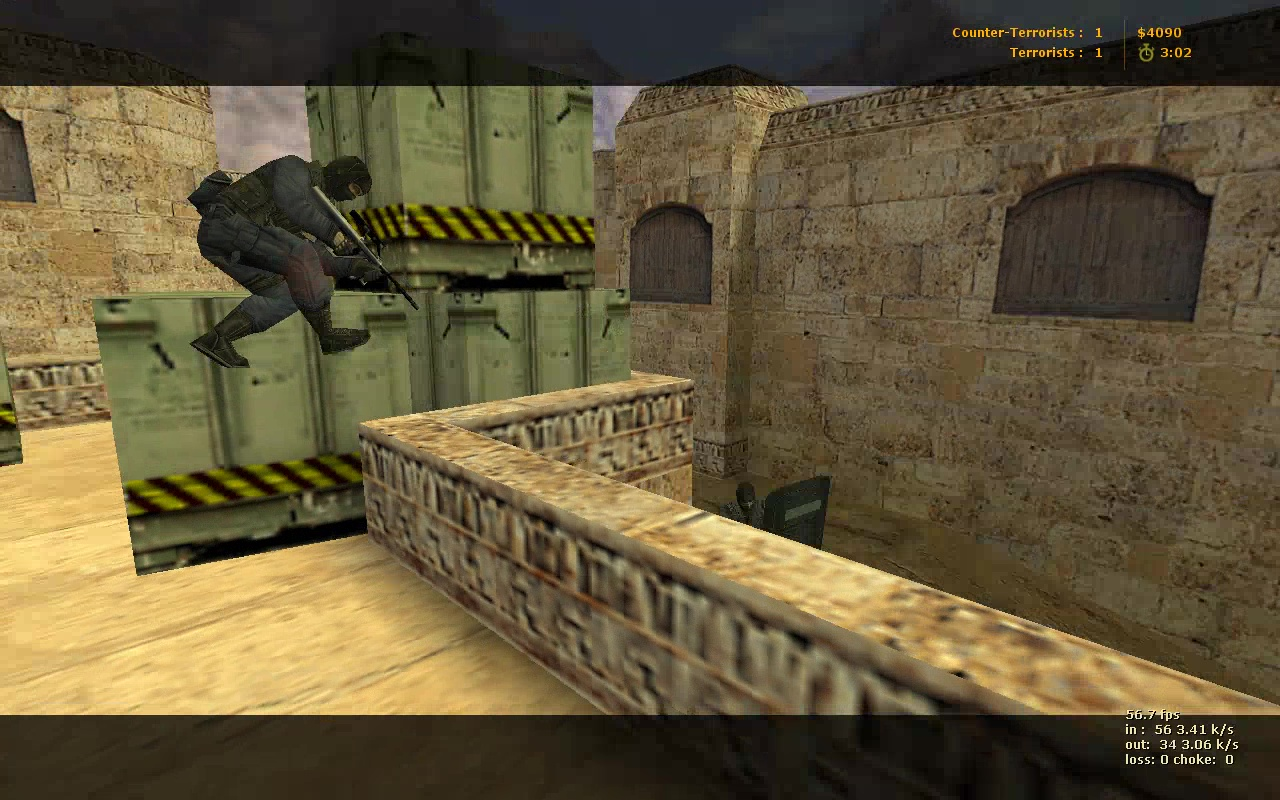ct: (187, 154, 378, 372)
